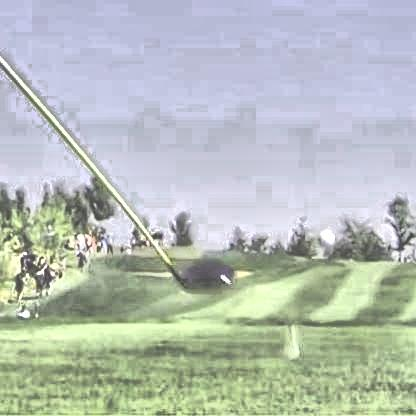golfball: (315, 228, 331, 244)
